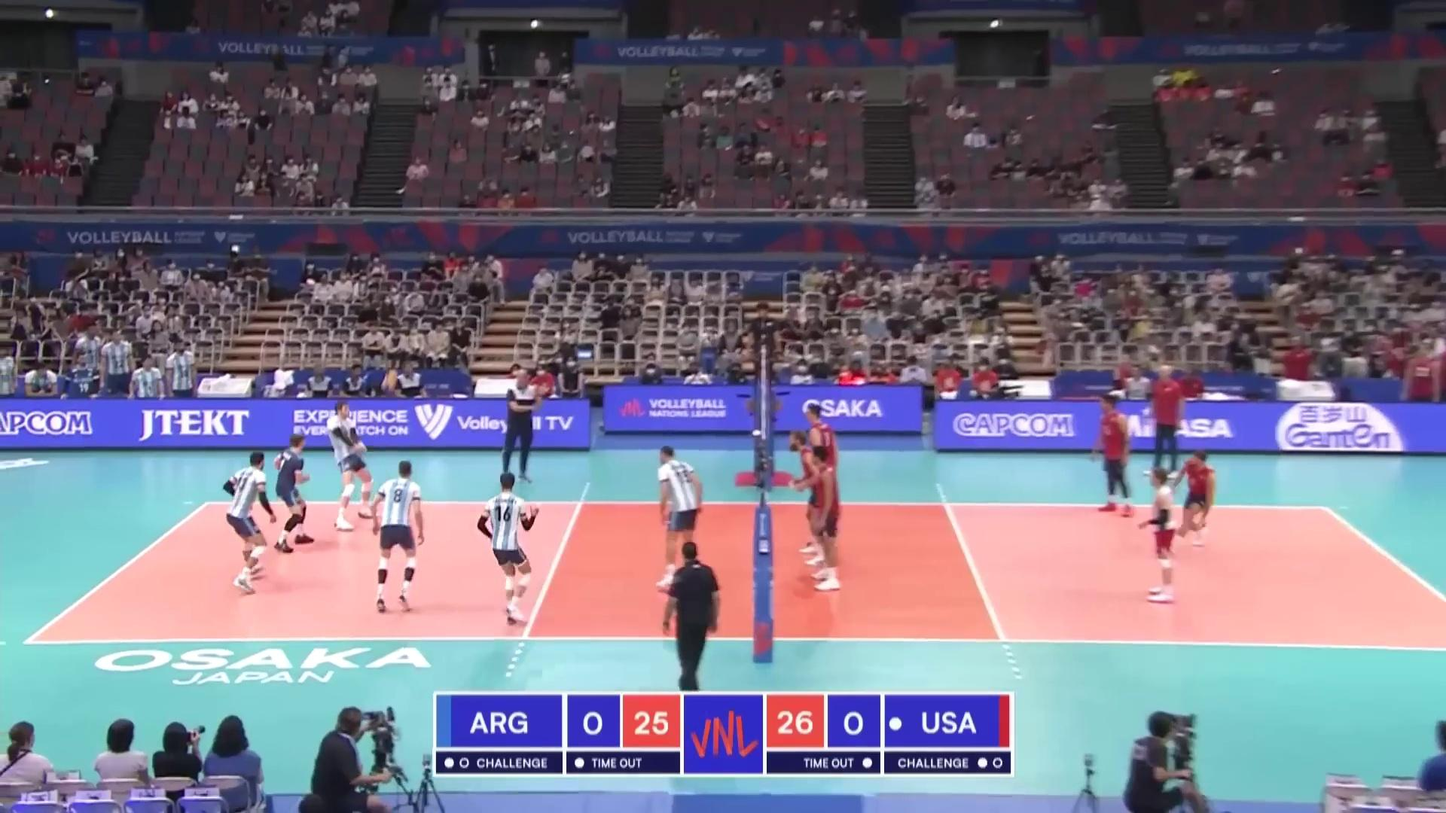player: (371, 461, 427, 613), (477, 480, 535, 624), (223, 452, 278, 594), (327, 399, 384, 530), (655, 447, 707, 587), (789, 432, 835, 565), (271, 433, 318, 555), (802, 402, 839, 549), (1138, 468, 1178, 602), (807, 445, 843, 592), (1095, 395, 1135, 515), (1174, 448, 1214, 550)
refree: (663, 542, 720, 689), (742, 304, 783, 401)
